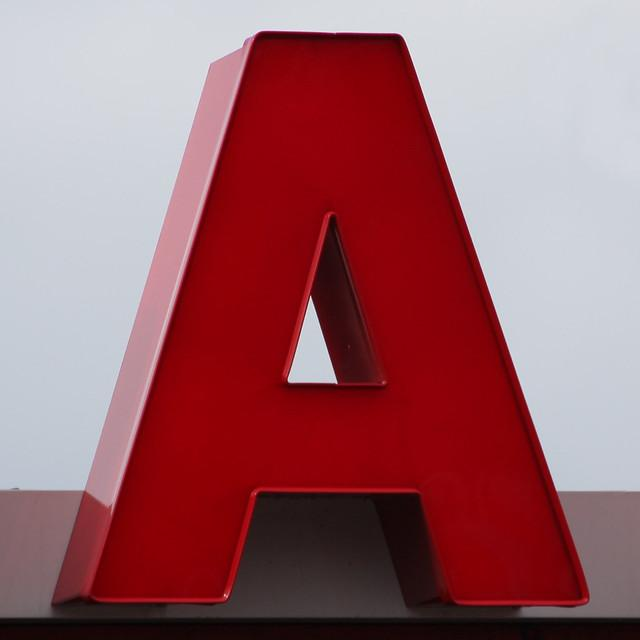A: (62, 24, 597, 620)
